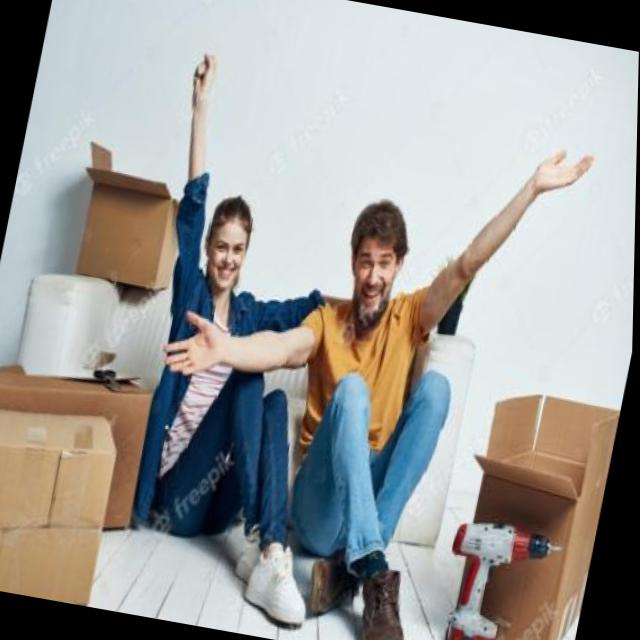box: (435, 373, 623, 640), (0, 349, 183, 555), (0, 384, 141, 608), (58, 133, 210, 300)
